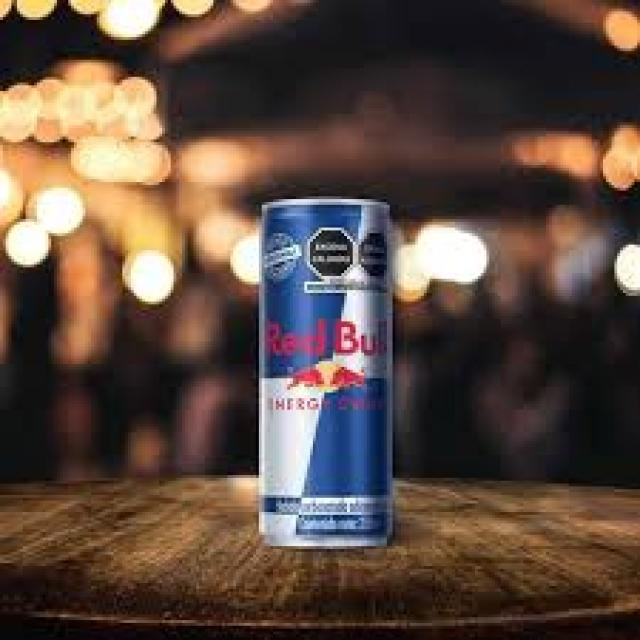Lata: (255, 198, 399, 550)
